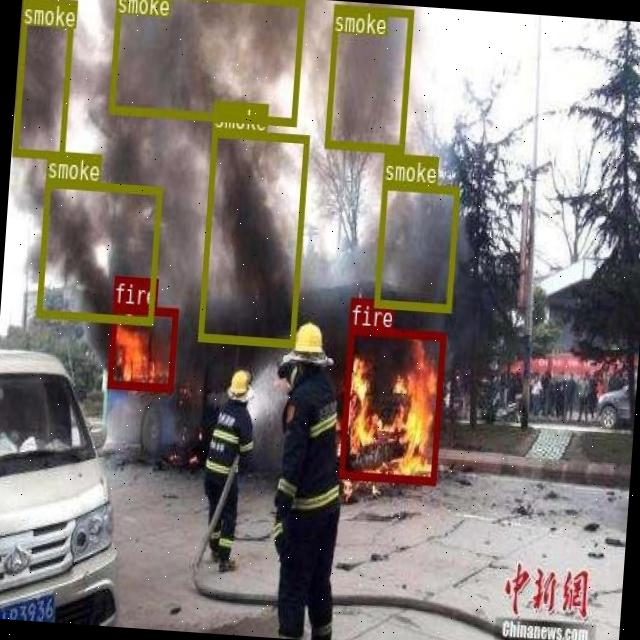fire: (338, 324, 444, 483), (106, 304, 176, 391)
smoke: (197, 127, 308, 345), (108, 0, 303, 124), (36, 178, 161, 324), (324, 3, 413, 152), (372, 181, 459, 311), (12, 0, 74, 157)
